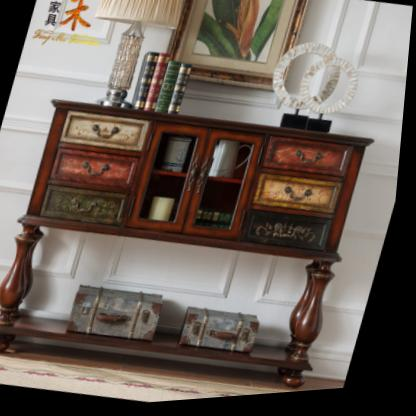Cupboard: (0, 101, 376, 393)
Lamp: (80, 0, 188, 112)
